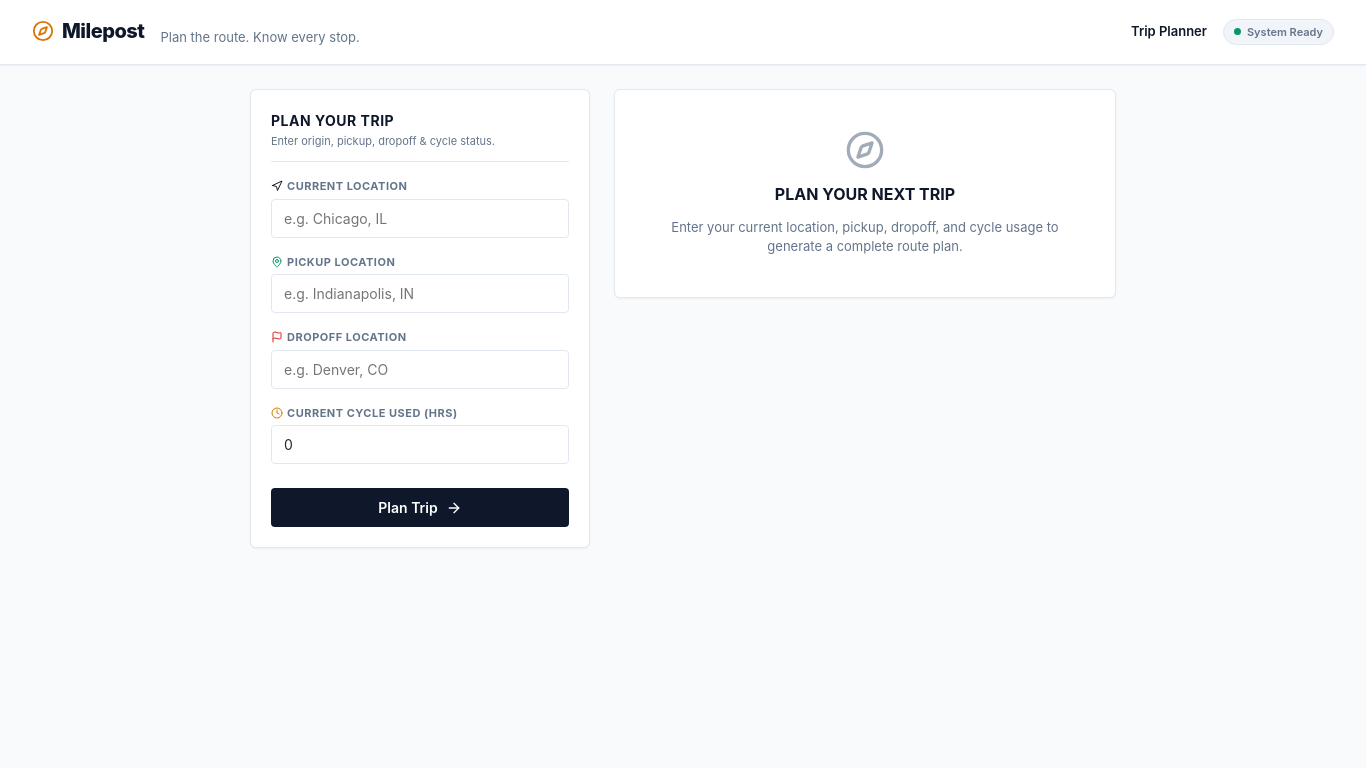
Test: App States and Integration › shows structured error from backend
Type "Chicago, IL" into the field labelled "Current Location" at (420, 218), box [271, 198, 569, 238]
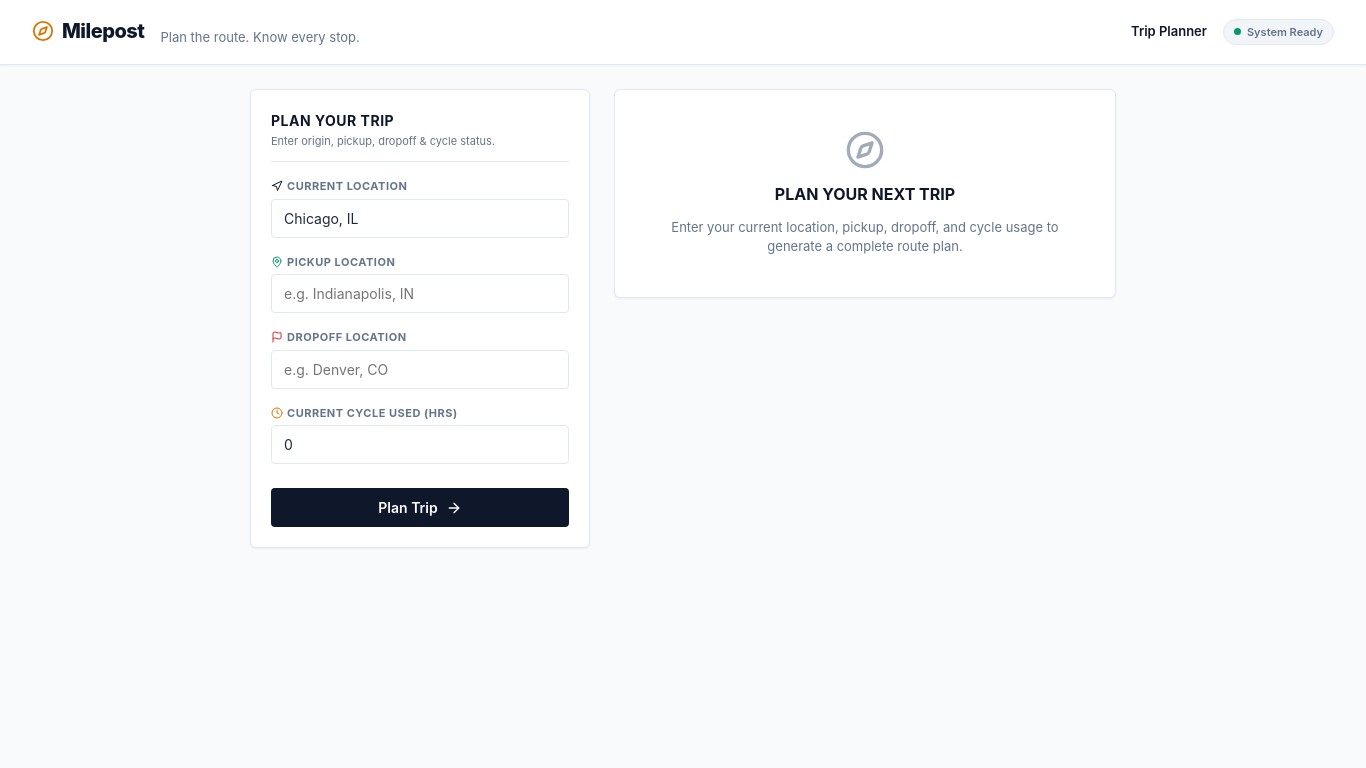
Type "Indy, IN" into the field labelled "Pickup Location" at (420, 294), box [271, 274, 569, 313]
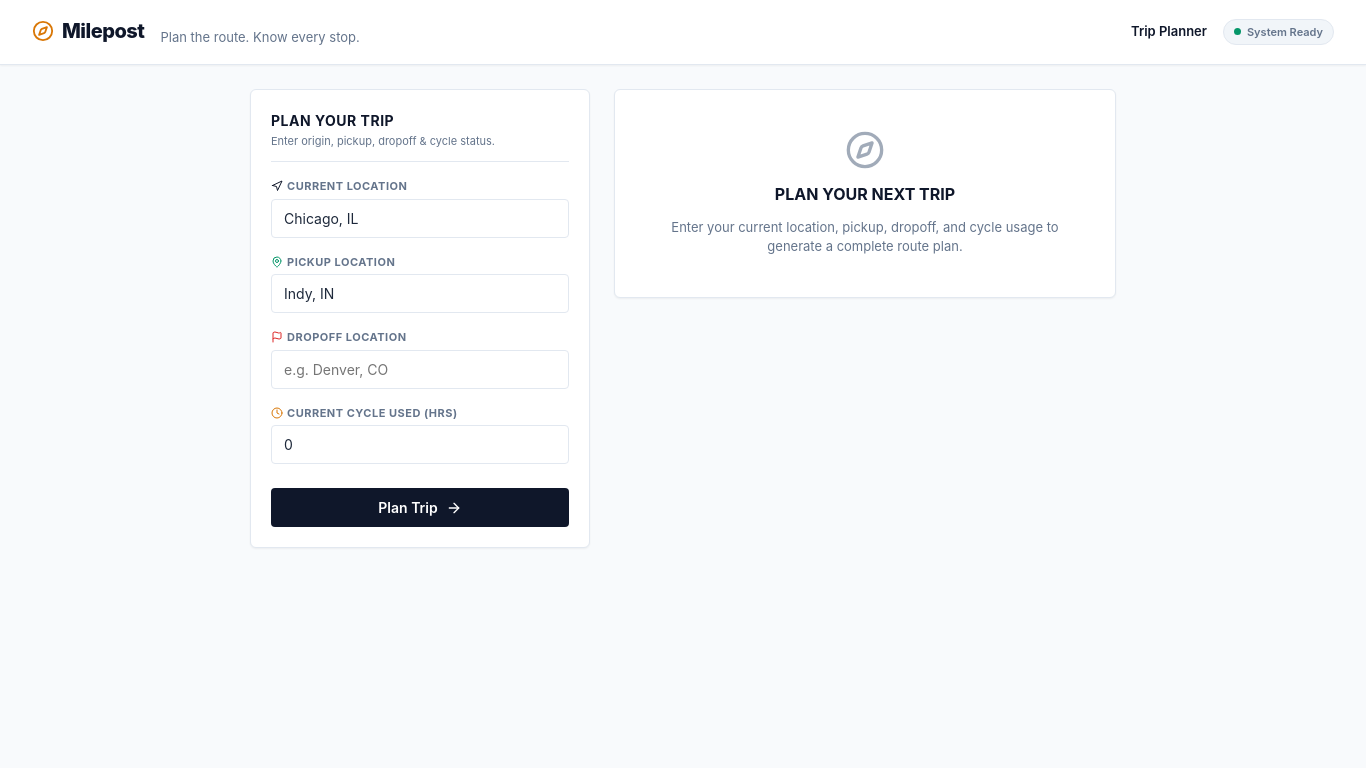
Type "Denver, CO" into the field labelled "Dropoff Location" at (420, 369), box [271, 350, 569, 388]
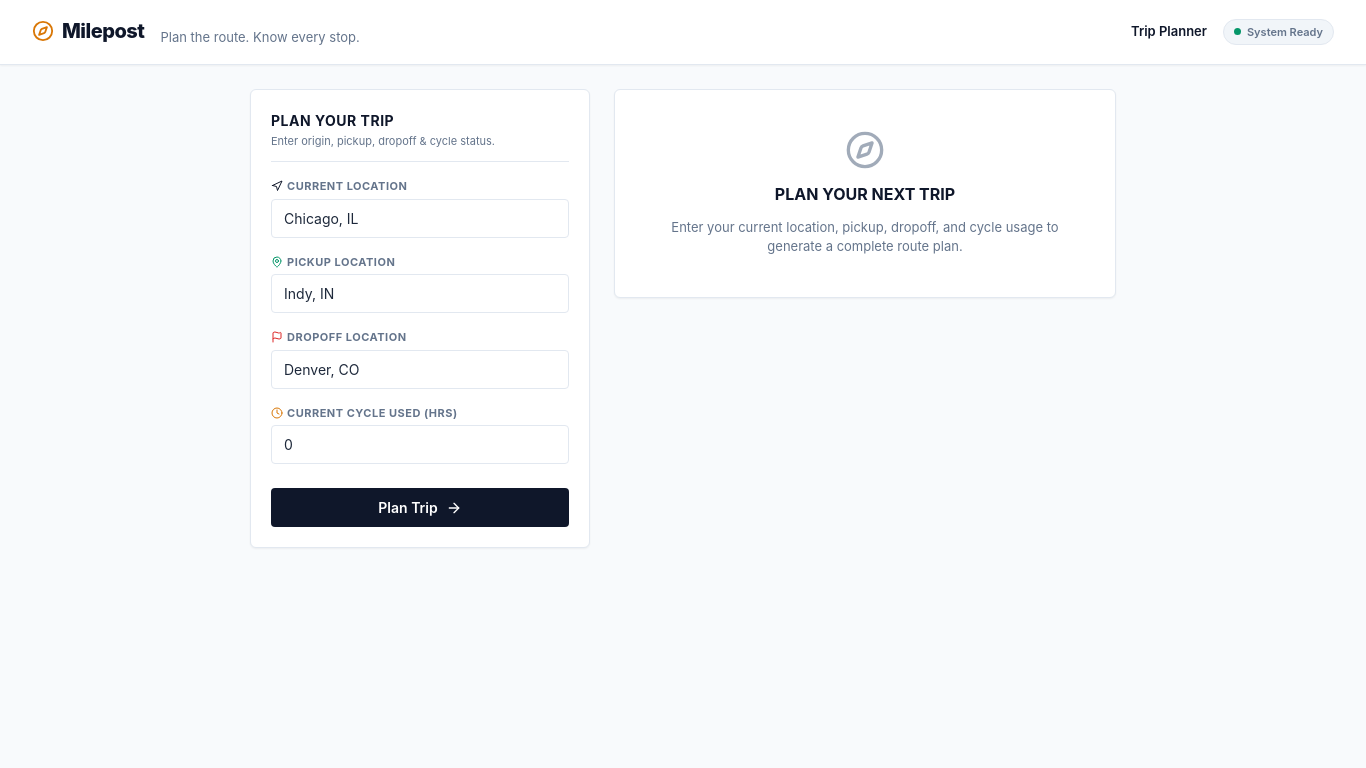
Submit the form with test id "planner-form", box [271, 178, 569, 527]
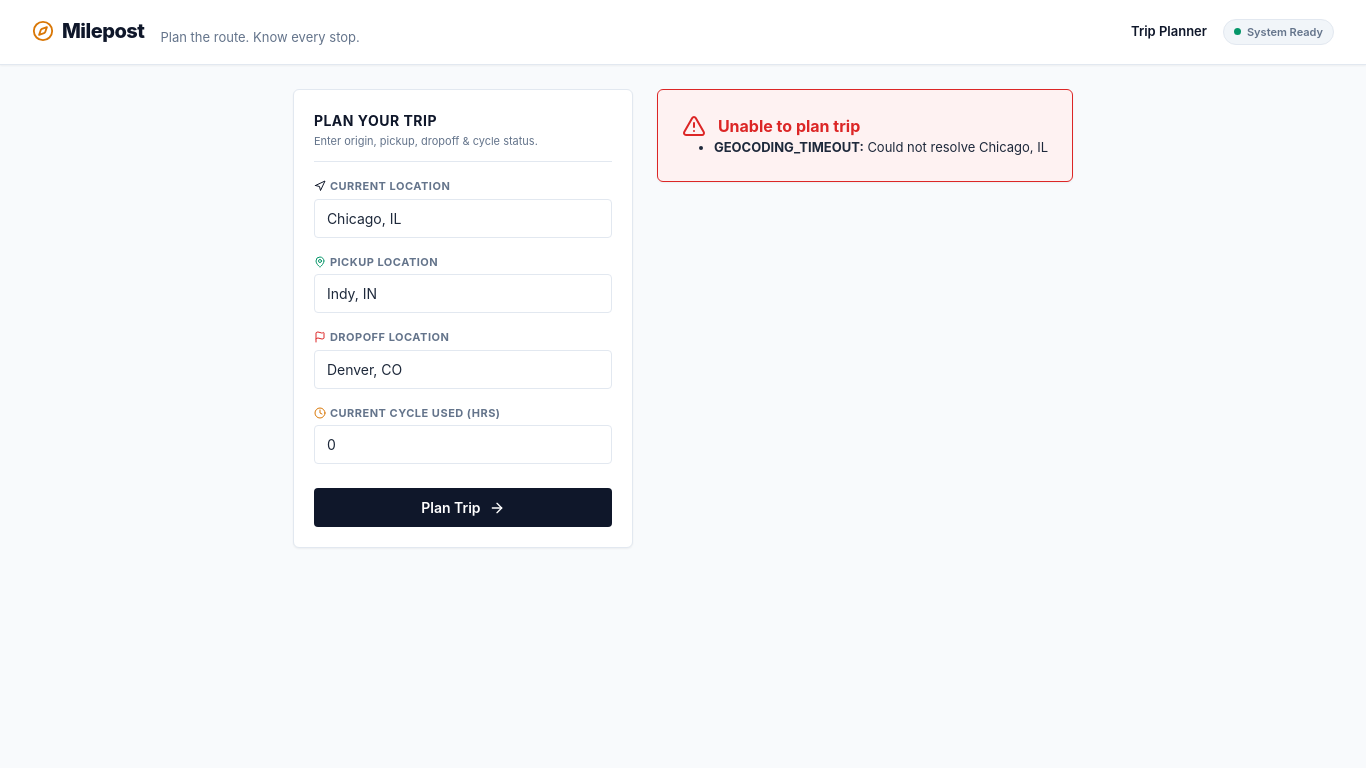
Expected: the element with test id "error-state" is shown, [657, 88, 1073, 182]
Expected: the element with test id "error-state" shows "GEOCODING_TIMEOUT", [714, 138, 859, 154]
Expected: the element with test id "error-state" shows "Could not resolve Chicago, IL", [867, 138, 1048, 154]
